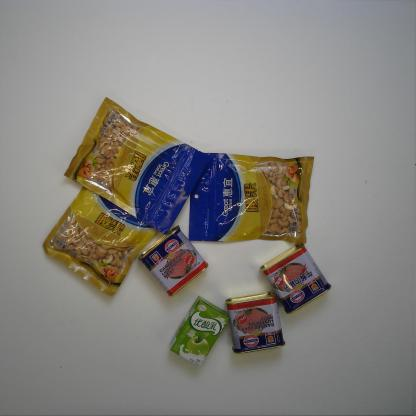Canned Food: (259, 243, 332, 318), (137, 224, 209, 297), (226, 292, 286, 357)
Dried Fruit: (61, 96, 212, 236), (42, 163, 173, 299), (184, 151, 315, 246)
Milk: (165, 294, 231, 368)
